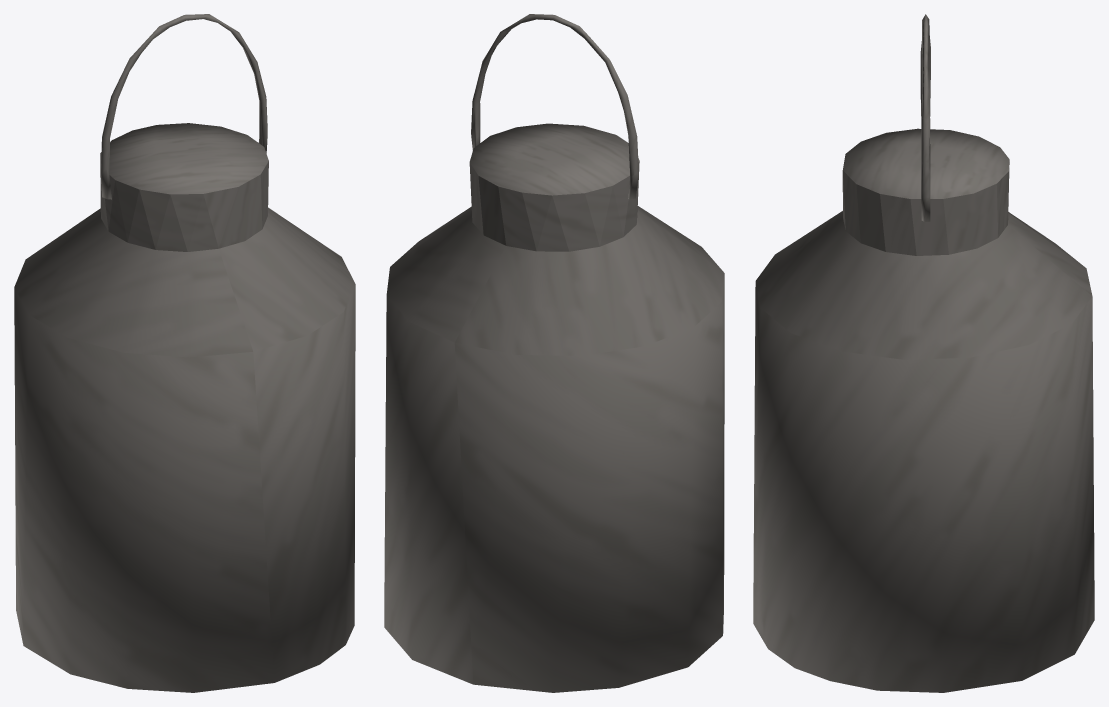
The model's file is MilkBucket.fbx.
3 views of the same model, side by side, from view 1: azimuth 30°, elevation 25°; view 2: azimuth 150°, elevation 25°; view 3: azimuth 270°, elevation 25° (orthographic).
Parts seen in each view (by area): view 1: MilkBucket; view 2: MilkBucket; view 3: MilkBucket.
Part boxes in pixels (bbox=[...]): MilkBucket: bbox=[14, 14, 355, 692]; MilkBucket: bbox=[384, 14, 724, 692]; MilkBucket: bbox=[753, 14, 1094, 692].
Size of the model in its own units: 142 by 280 by 144.
Materials: 1 (1 with a texture image).
